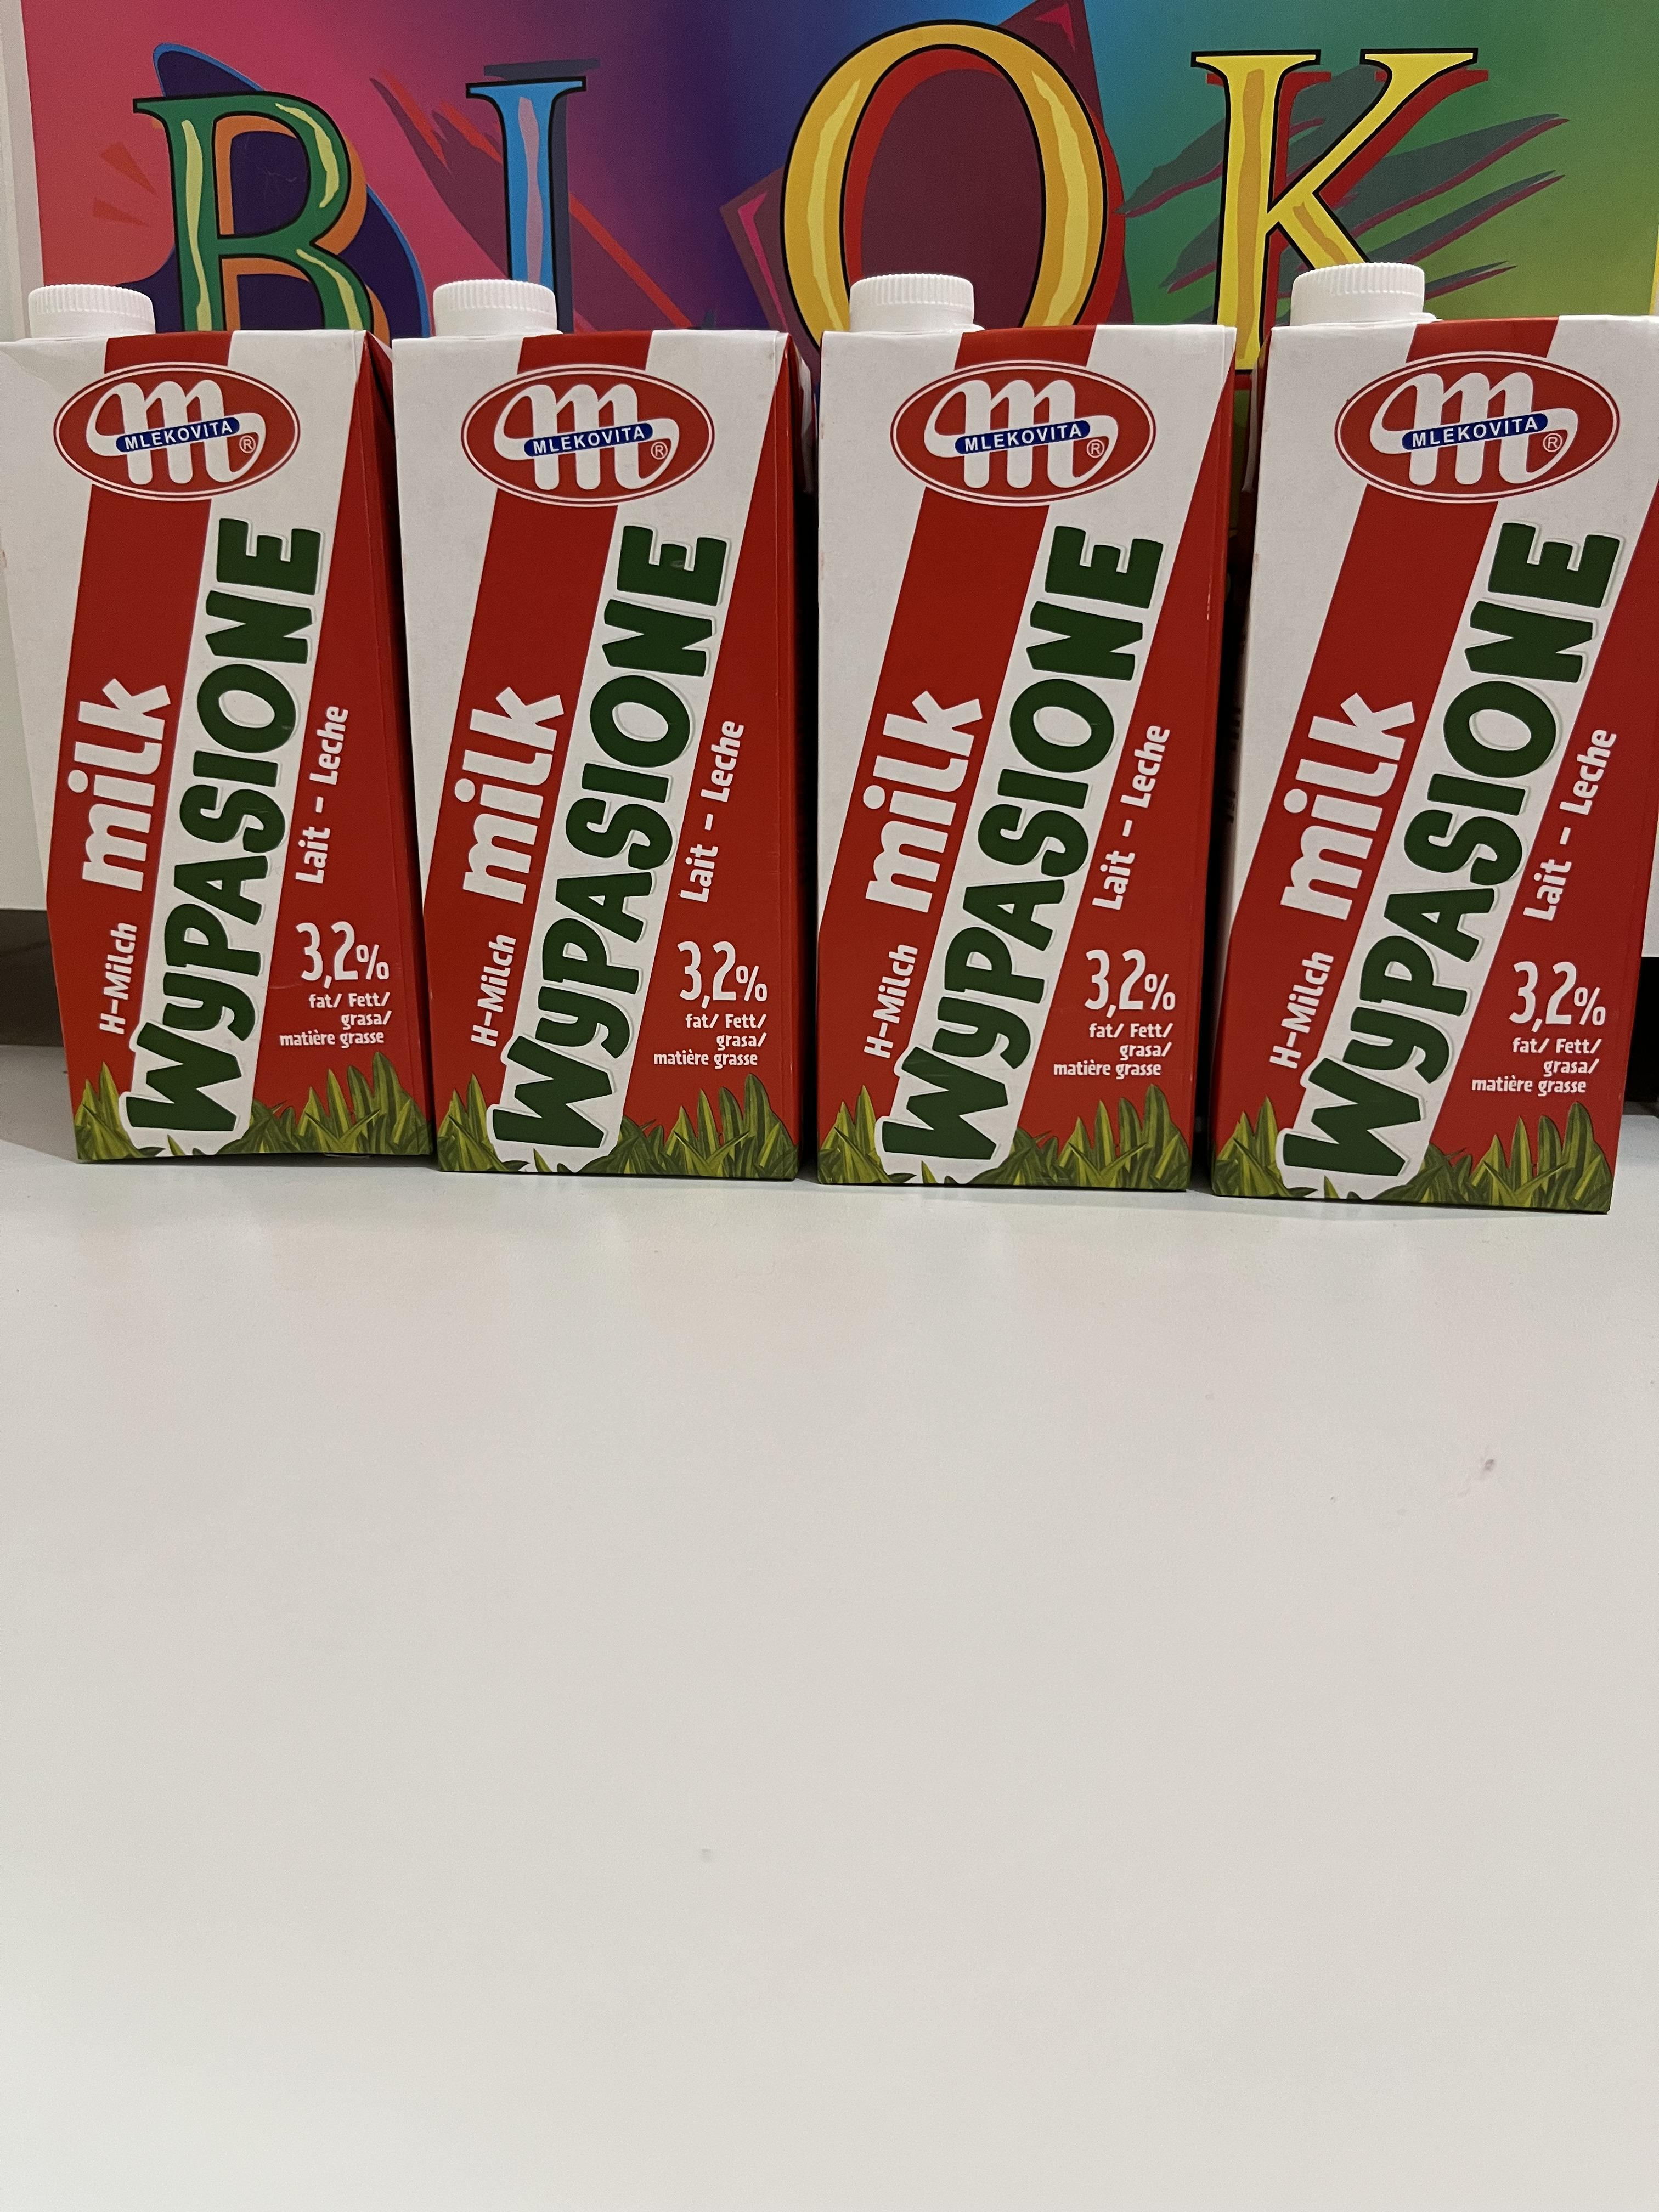Milk: (7, 343, 450, 1167), (1256, 317, 1659, 1223), (812, 326, 1211, 1207), (406, 334, 812, 1191)
